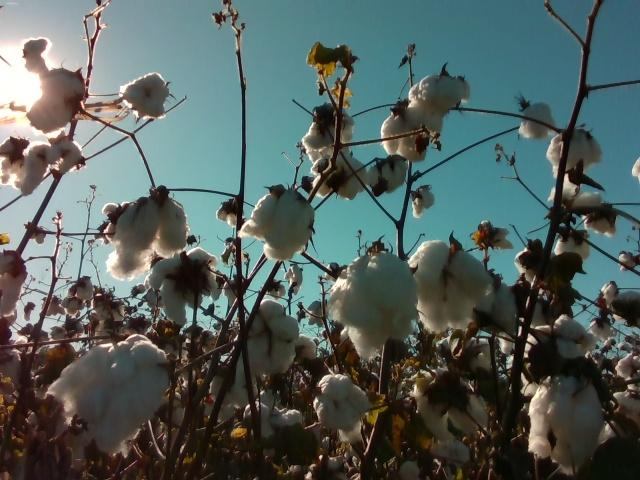cotton_ready: (44, 334, 174, 461), (328, 250, 421, 362), (529, 371, 607, 477), (410, 241, 492, 335), (11, 36, 86, 133), (104, 198, 190, 282), (411, 371, 495, 447), (240, 186, 316, 262), (147, 247, 221, 325), (243, 301, 302, 377), (20, 139, 88, 200), (311, 371, 372, 435), (381, 105, 447, 164), (244, 387, 302, 446), (300, 107, 358, 165), (546, 128, 607, 181), (311, 151, 368, 201), (536, 320, 599, 362), (210, 356, 259, 410), (124, 70, 174, 121), (409, 75, 471, 115), (365, 156, 408, 195), (0, 154, 28, 189)
